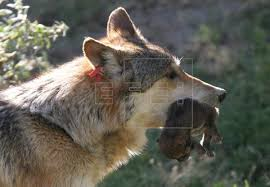Lobo: (37, 11, 258, 186)
